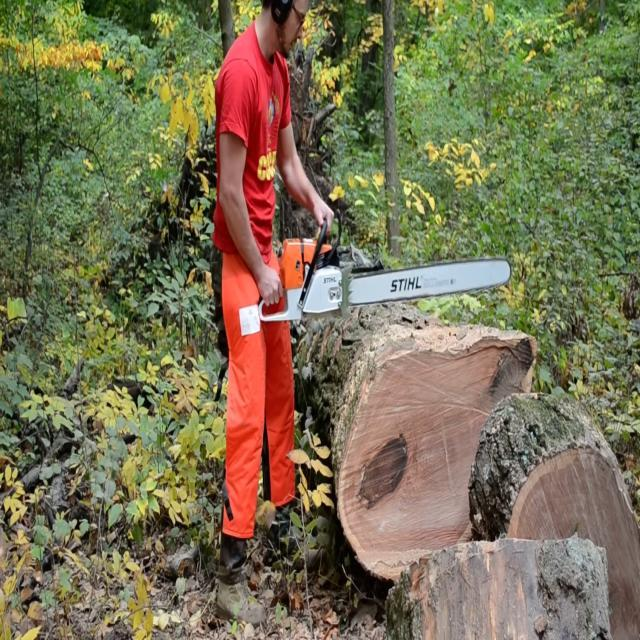Chainsaw: (236, 187, 516, 356)
